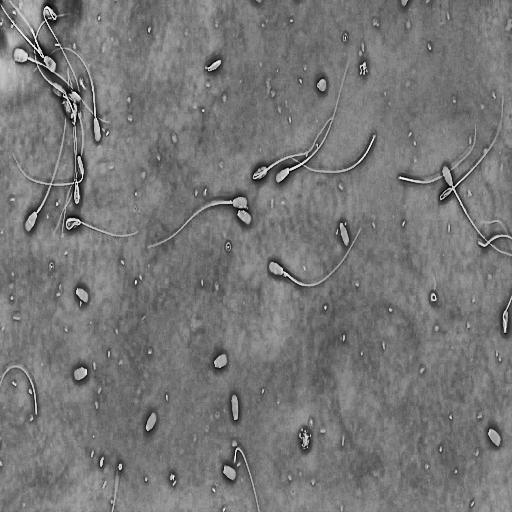coiled-tail: (63, 217, 139, 240), (73, 117, 81, 207), (73, 120, 80, 205)
dirt-particles: (297, 426, 312, 453), (358, 59, 368, 77)
folded-tail: (441, 95, 504, 199), (253, 118, 332, 179), (43, 6, 81, 120), (13, 154, 83, 186)
loose-head: (484, 422, 507, 455), (335, 212, 353, 251), (228, 387, 245, 428), (73, 278, 94, 309), (218, 460, 241, 487), (209, 349, 231, 377), (142, 409, 162, 437), (232, 209, 257, 231), (69, 363, 93, 385), (206, 57, 223, 74)
loose-tail: (397, 121, 478, 188), (288, 128, 378, 177), (0, 364, 38, 415), (233, 443, 261, 512)
normal: (272, 52, 353, 187), (22, 60, 71, 236), (10, 44, 112, 126), (31, 44, 103, 148), (438, 93, 505, 203), (440, 163, 512, 264), (265, 223, 363, 290), (250, 114, 339, 183), (144, 193, 250, 250), (41, 2, 83, 121), (60, 210, 144, 243), (11, 150, 85, 187)
